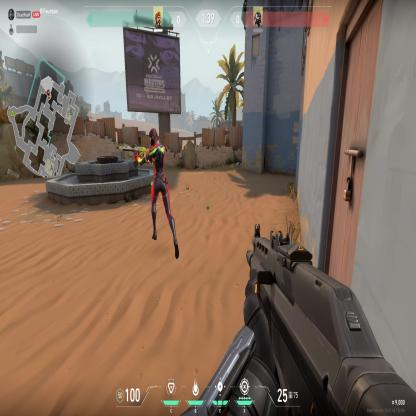enemy: (133, 126, 180, 266)
